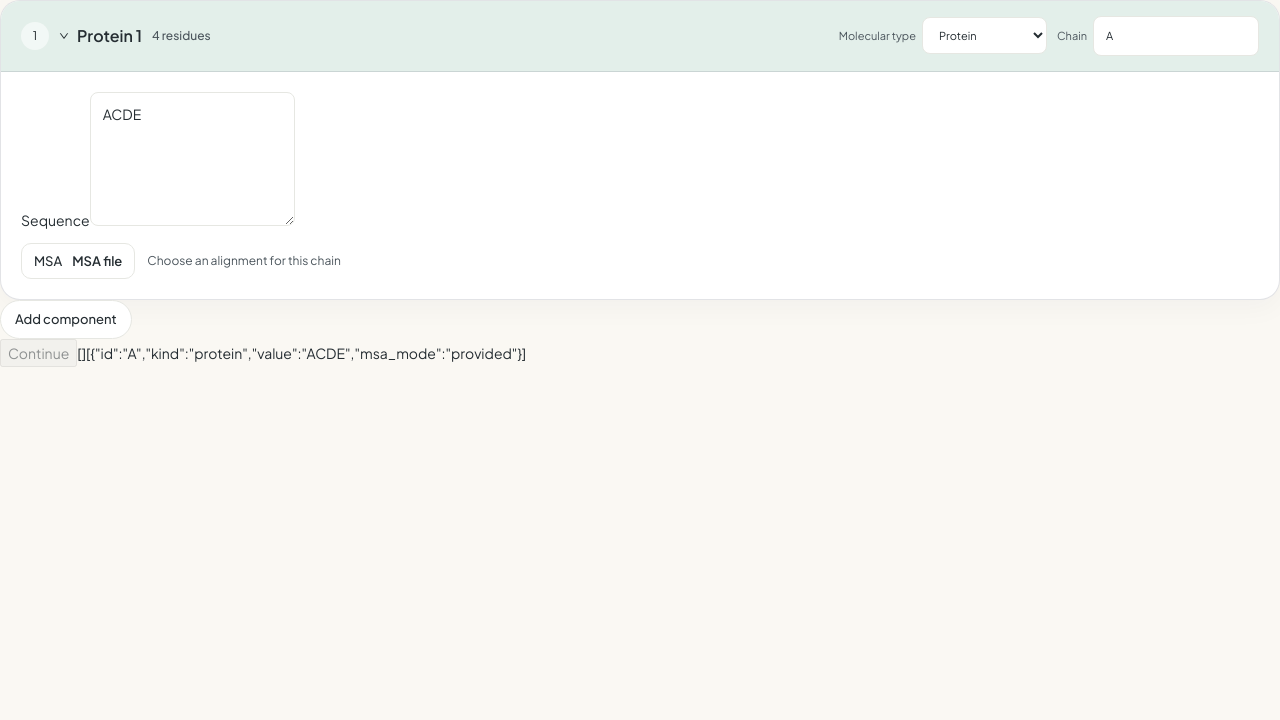
Test: stages chain MSA settings without silently changing the native provided-alignment default
Click the button with aria-label "Chain A MSA settings": (78,261) [21,243,135,279]
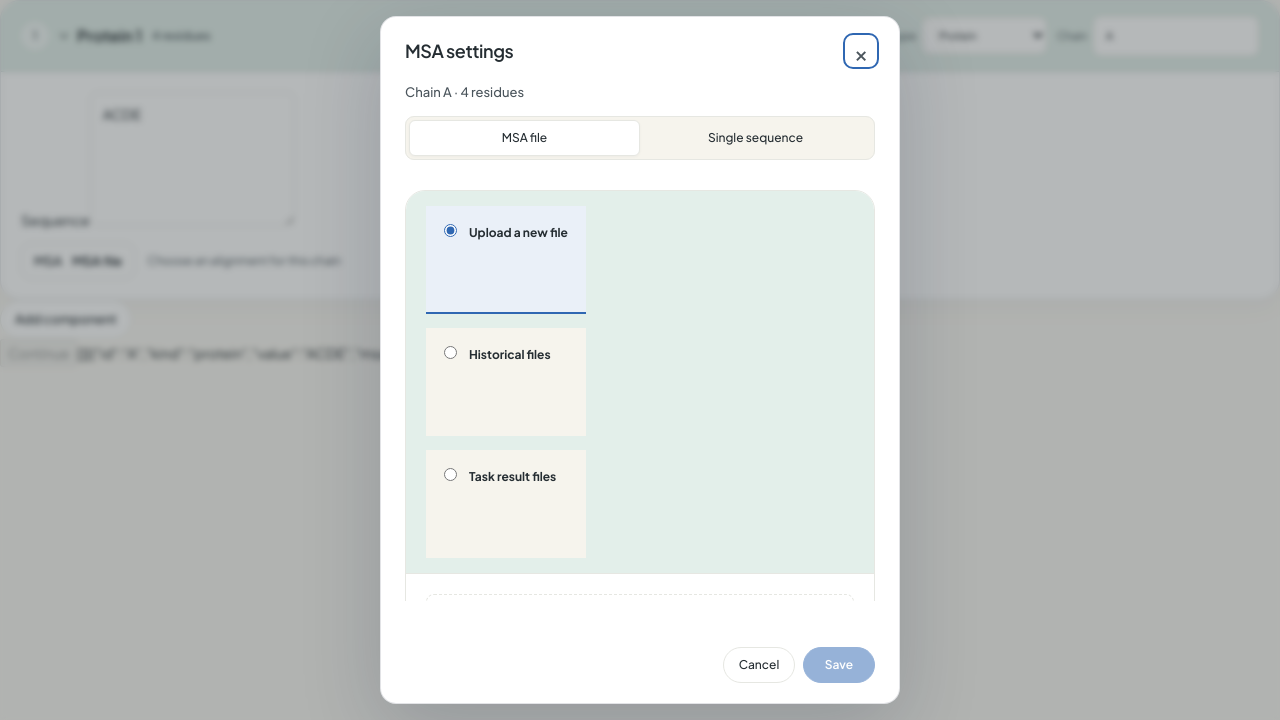
Click the radio button labelled "Single sequence": (756,138) [708,130,803,145]
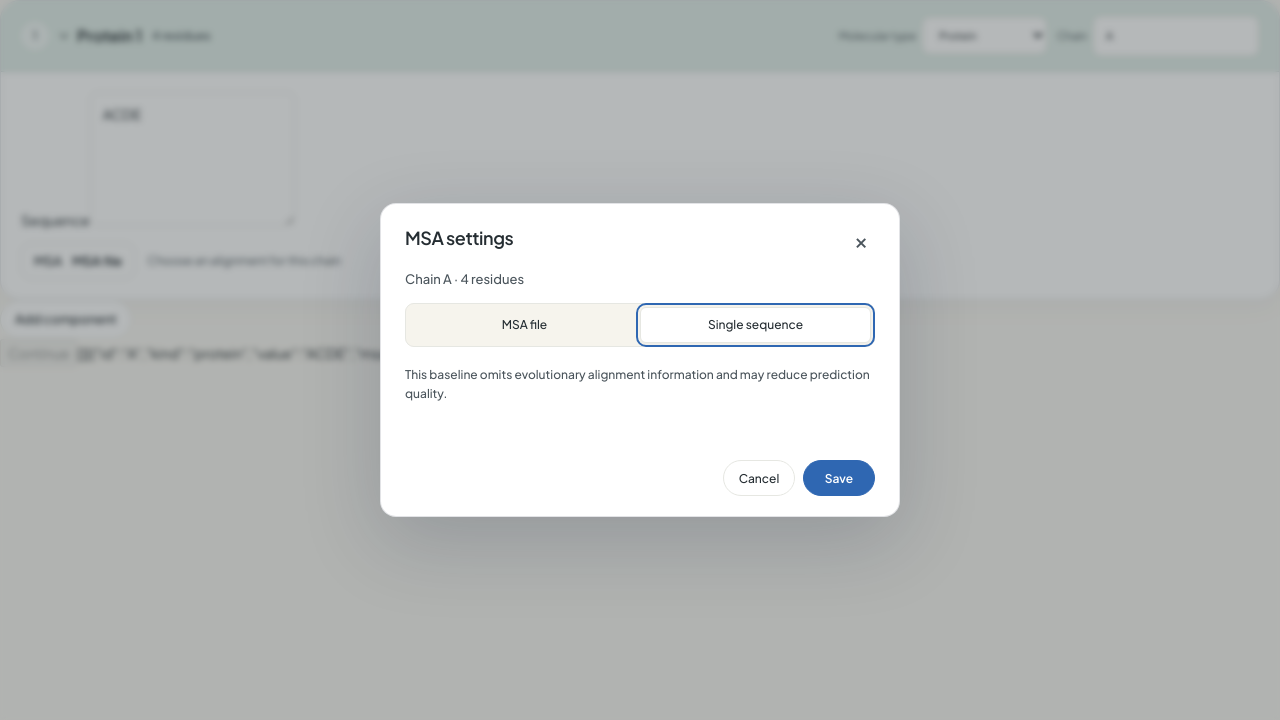
Expected: the text named "Current components" shows "\"msa_mode\":\"provided\"", [86,344,526,362]
Click the button "Cancel": (759,478) [723,460,795,496]
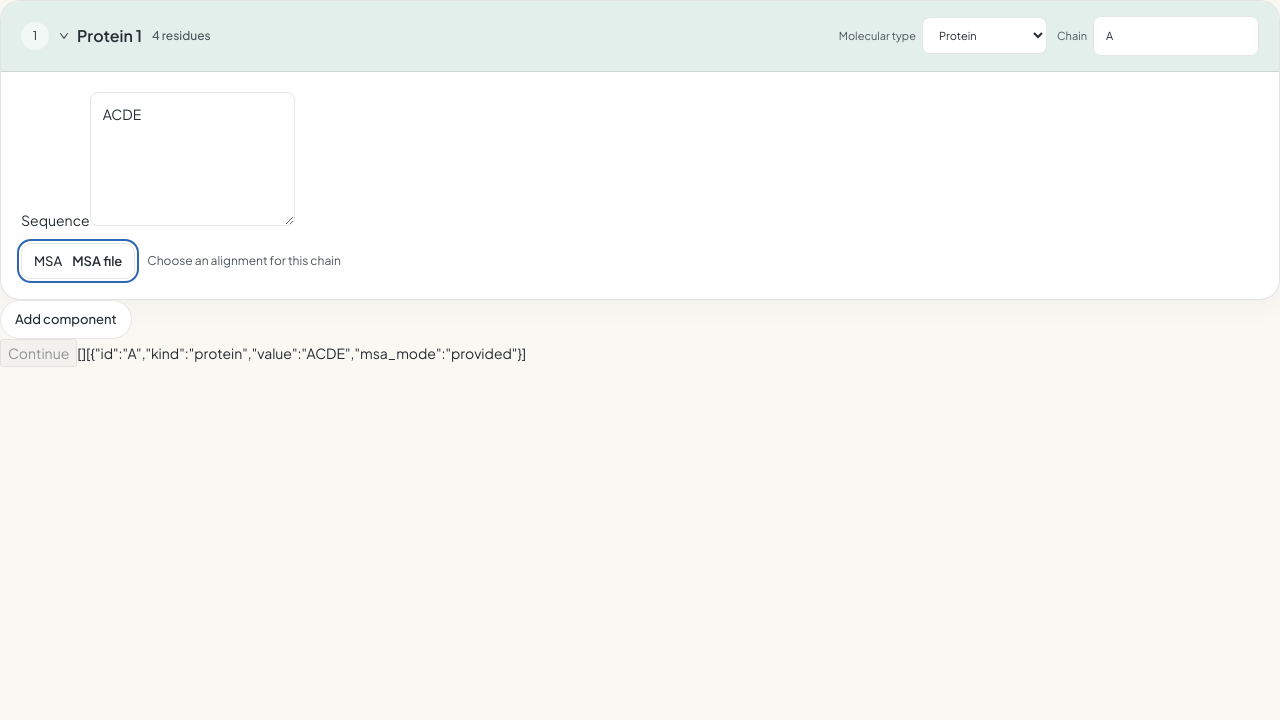
Expected: the button "Continue" is disabled, [0,339,77,367]
Click the button with aria-label "Chain A MSA settings": (78,261) [21,243,135,279]
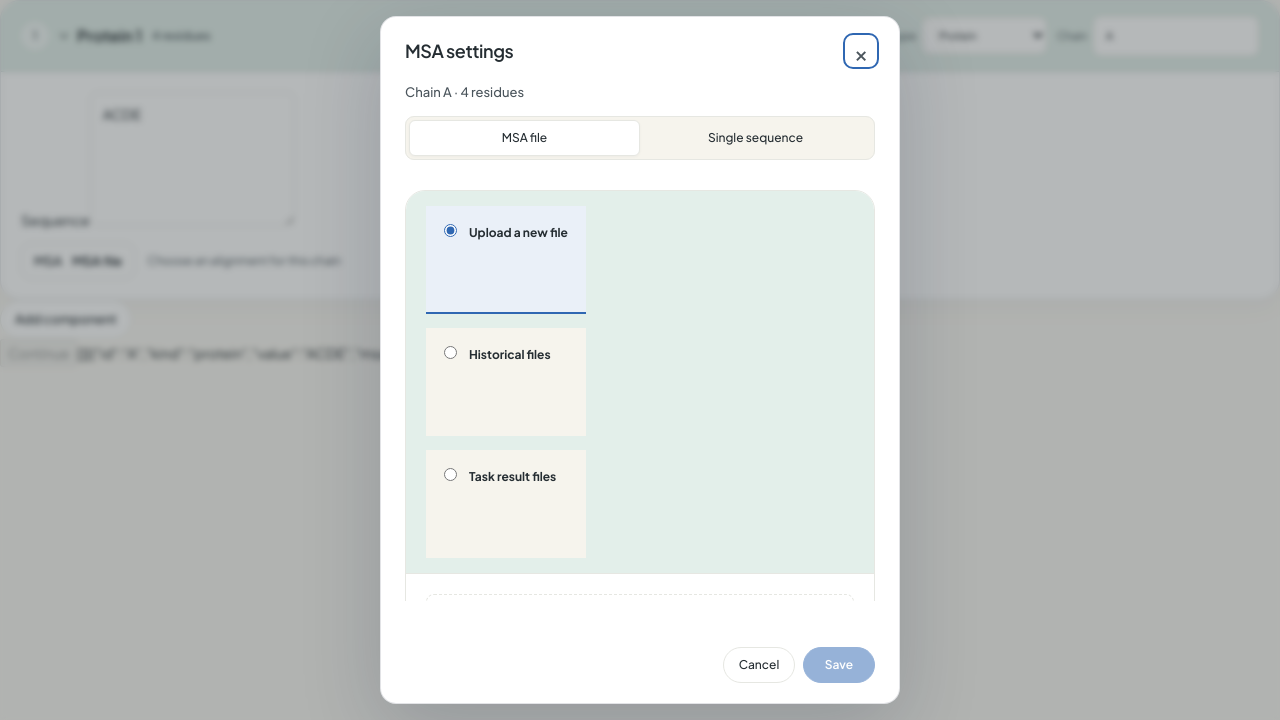
Now the radio button labelled "MSA file" is checked, box [409,120,640,156]
Click the radio button labelled "Single sequence": (756,138) [708,130,803,145]
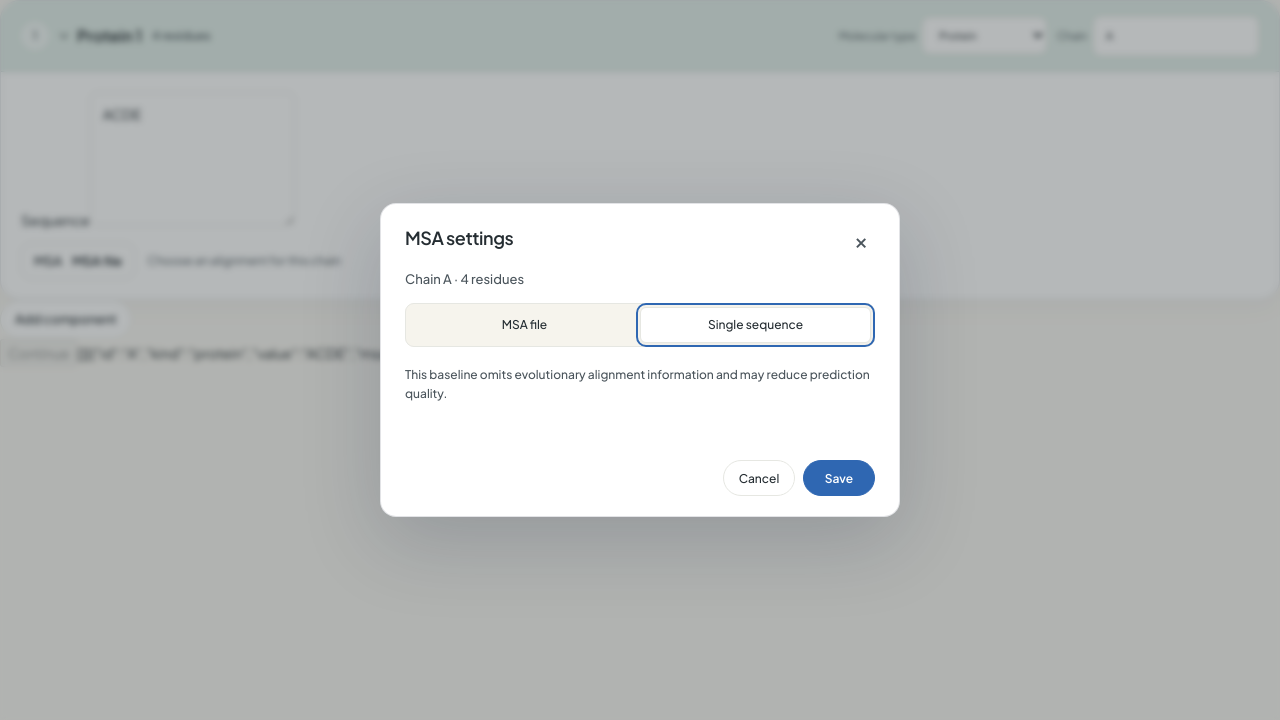
Click the button "Save": (839,478) [803,460,875,496]
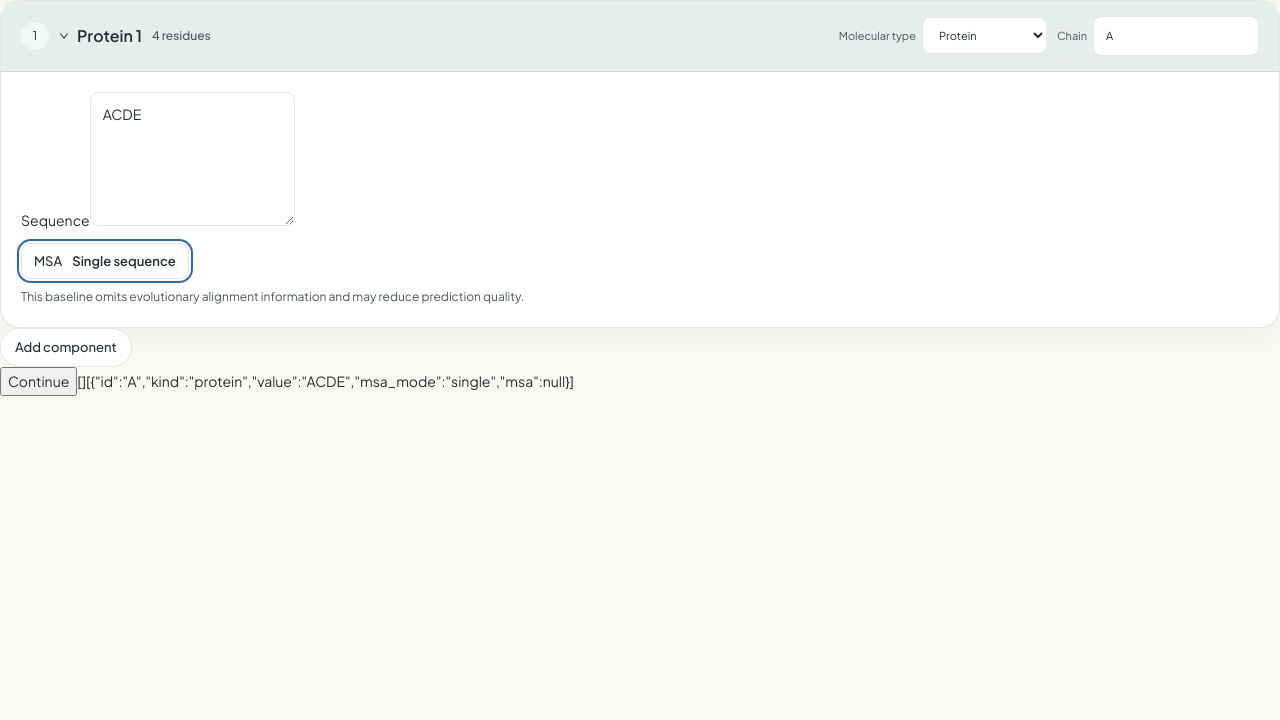
Now the button "Continue" is enabled, box [0,367,77,396]
Now the button with aria-label "Chain A MSA settings" shows "Single sequence", box [21,243,189,279]
